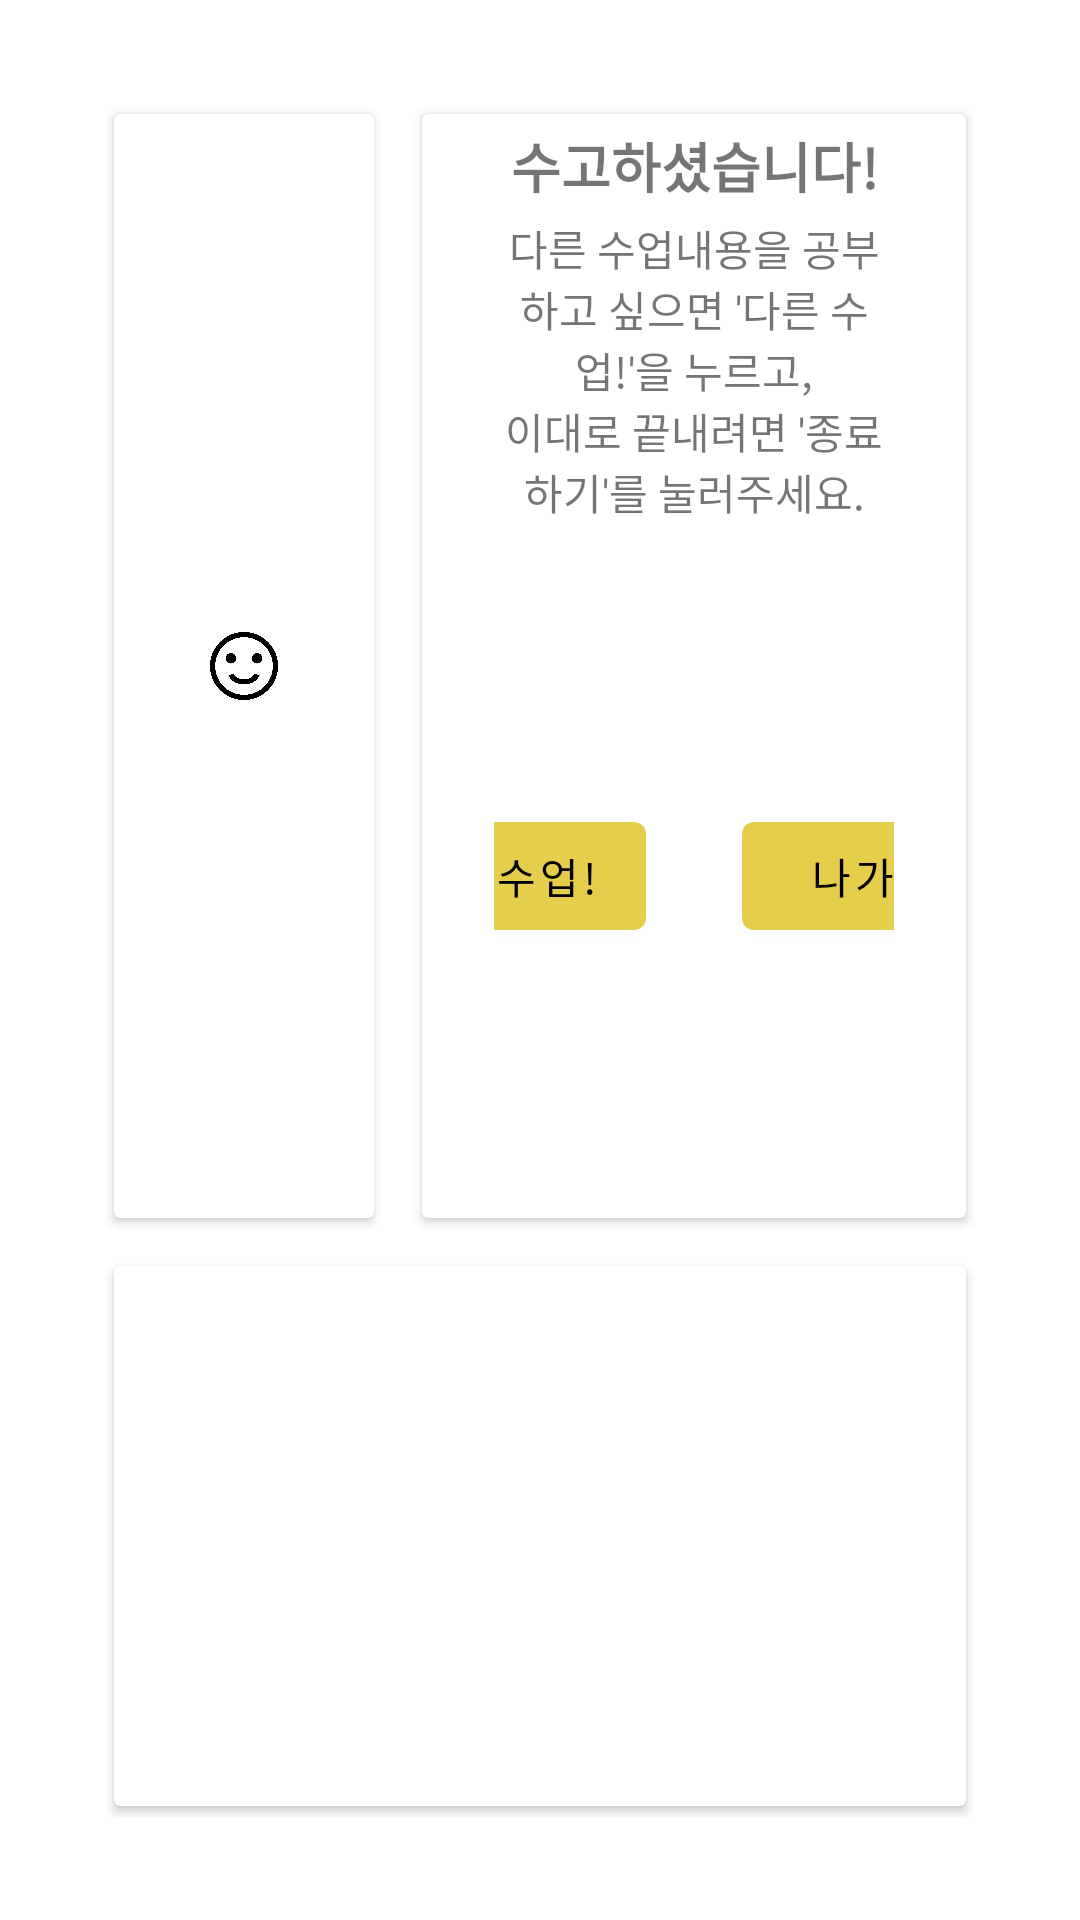

Icon bounding boxes for this 1080 x 1920 phone screenshot, format (x1, y1, x2, y2):
smile: (210, 632, 278, 700)
